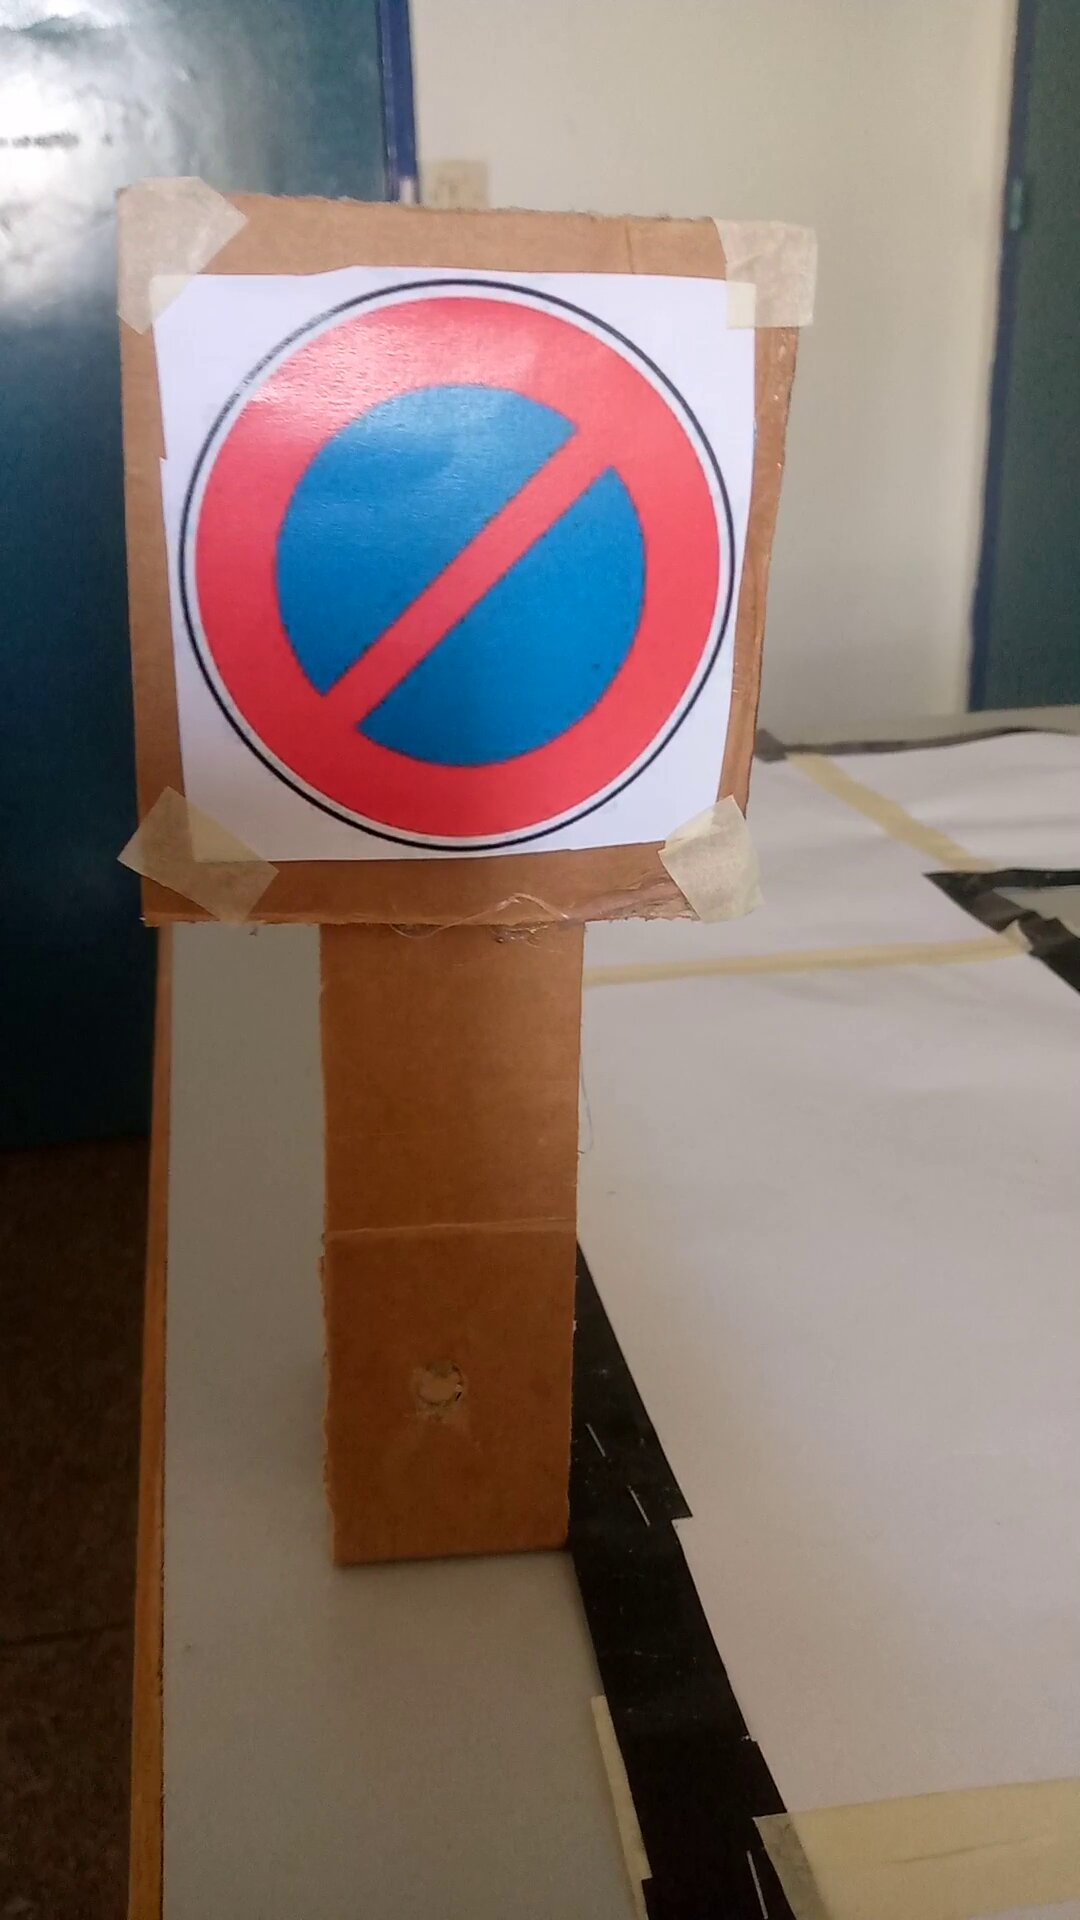panel110: (153, 277, 733, 855)
